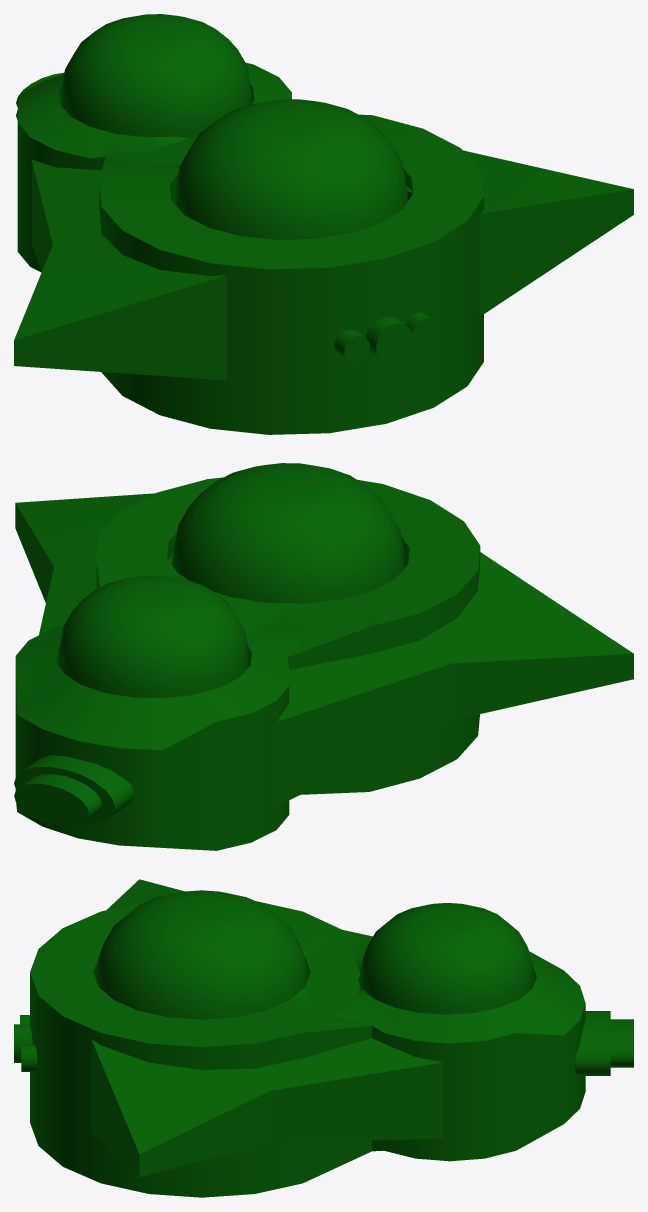
File: Hero Ship (EIGHT) CLEANUP.fbx
3 views of the same model, one above another, from view 1: azimuth 30°, elevation 25°; view 2: azimuth 150°, elevation 25°; view 3: azimuth 270°, elevation 25° (orthographic). The views are drawn at different scales.
Visible parts, largest first — view 1: Eight, Cockpit, Wings, Boosters; view 2: Eight, Wings, Cockpit, Guns; view 3: Eight, Cockpit, Wings, Guns, Boosters.
Part boxes in pixels (left/top/right/bottom): Eight: left=17, top=63, right=483, bottom=434; Cockpit: left=61, top=14, right=408, bottom=239; Wings: left=14, top=150, right=633, bottom=380; Boosters: left=334, top=312, right=437, bottom=363; Eight: left=15, top=477, right=480, bottom=850; Wings: left=15, top=493, right=633, bottom=805; Cockpit: left=58, top=463, right=404, bottom=698; Guns: left=14, top=755, right=134, bottom=826; Eight: left=30, top=901, right=585, bottom=1197; Cockpit: left=95, top=890, right=534, bottom=1019; Wings: left=91, top=879, right=443, bottom=1177; Guns: left=574, top=1011, right=633, bottom=1075; Boosters: left=14, top=1015, right=37, bottom=1071.
Size of the model in its own units: 13.17 by 4.74 by 12.54.
